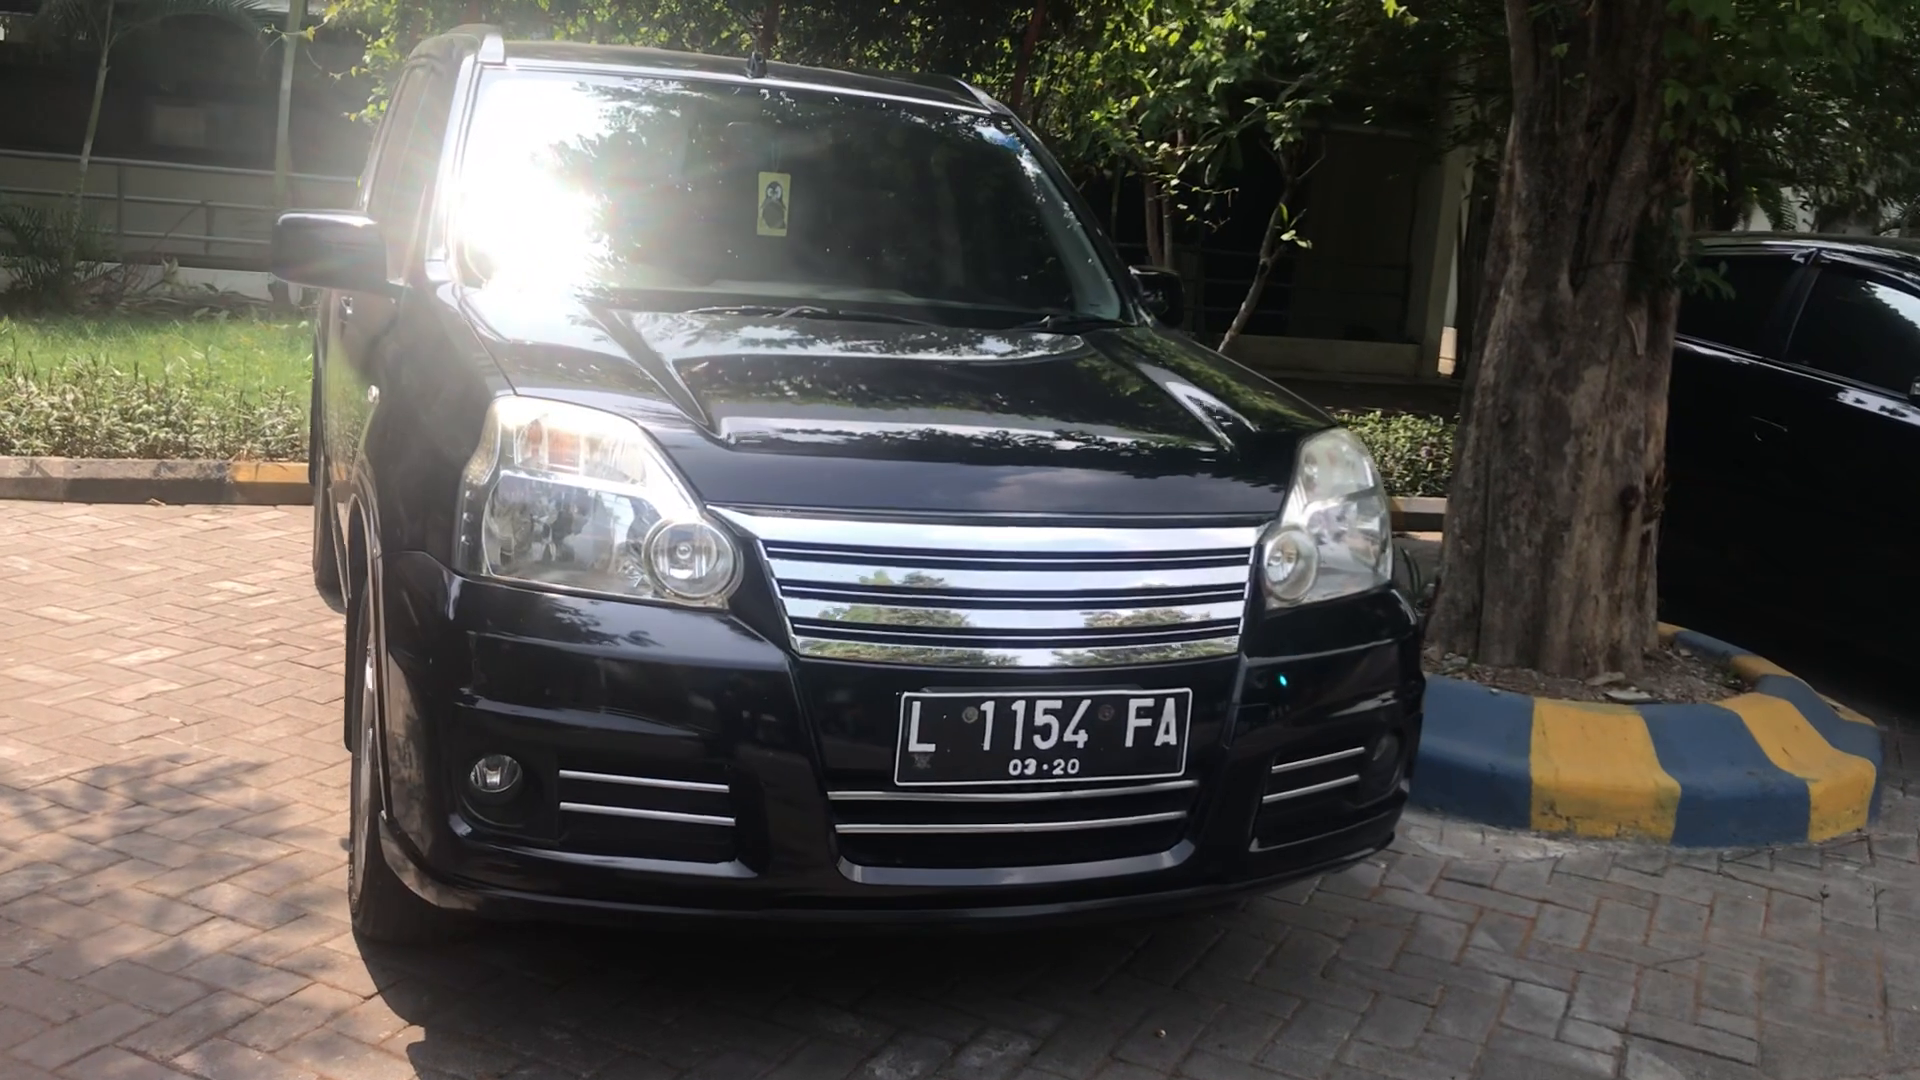plate: (900, 685, 1195, 797)
